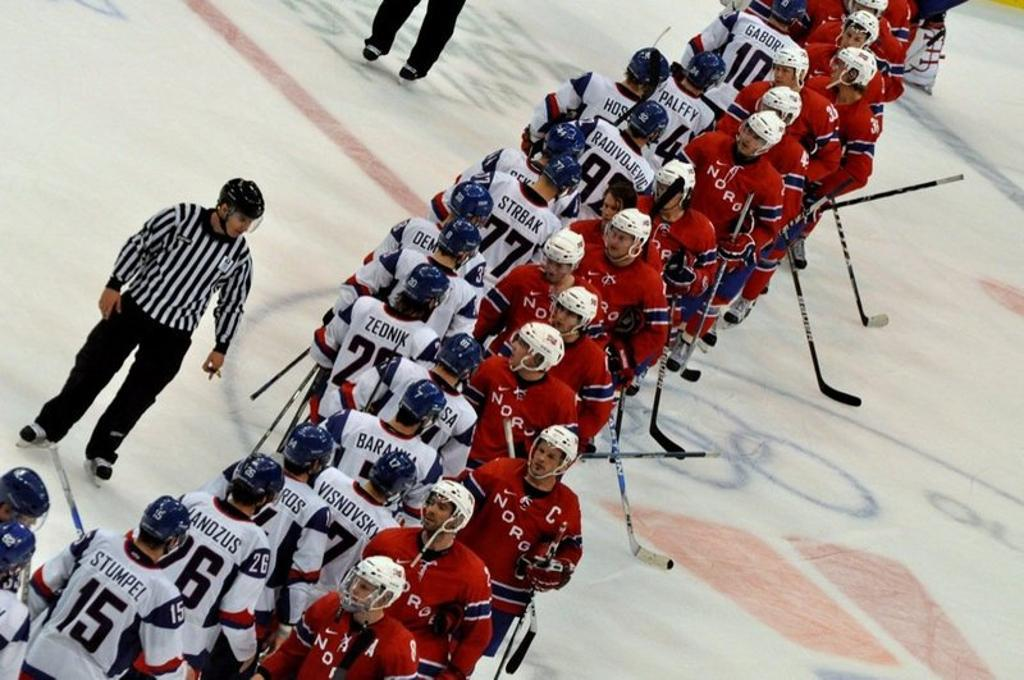face: (421, 496, 453, 530), (532, 443, 564, 476), (349, 576, 381, 608), (556, 306, 583, 335), (608, 228, 634, 258), (739, 128, 766, 156), (12, 515, 39, 539), (604, 195, 625, 225), (509, 337, 533, 363), (842, 27, 866, 52), (657, 185, 682, 208), (546, 260, 569, 282), (231, 213, 251, 237), (775, 67, 795, 90), (832, 59, 849, 83), (854, 5, 876, 23)
